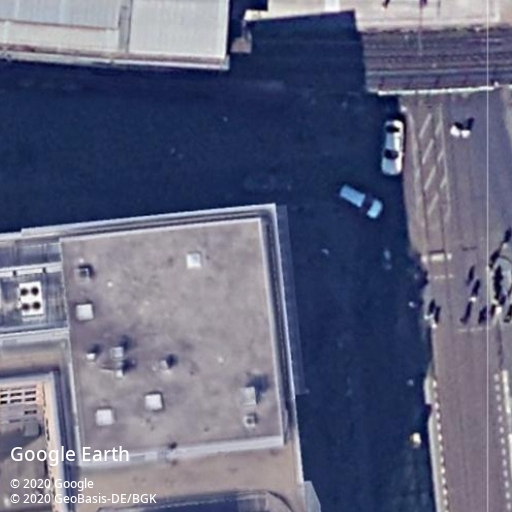Chiller: (18, 281, 45, 316)
